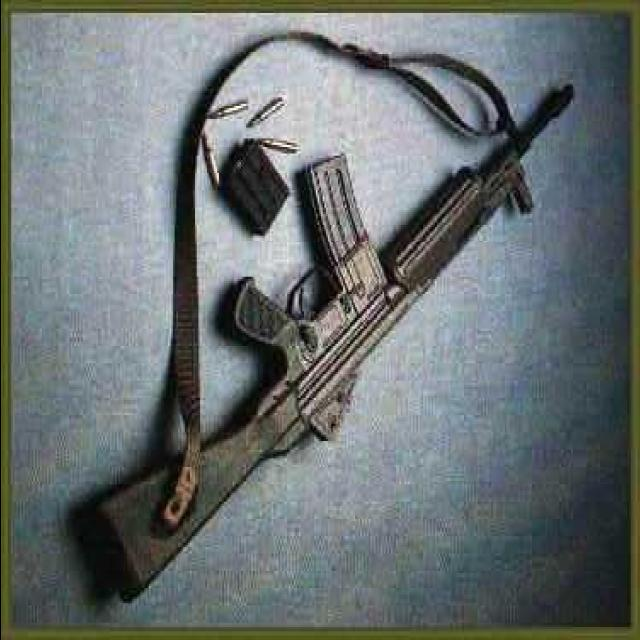heavyweapon: (54, 59, 596, 611)
